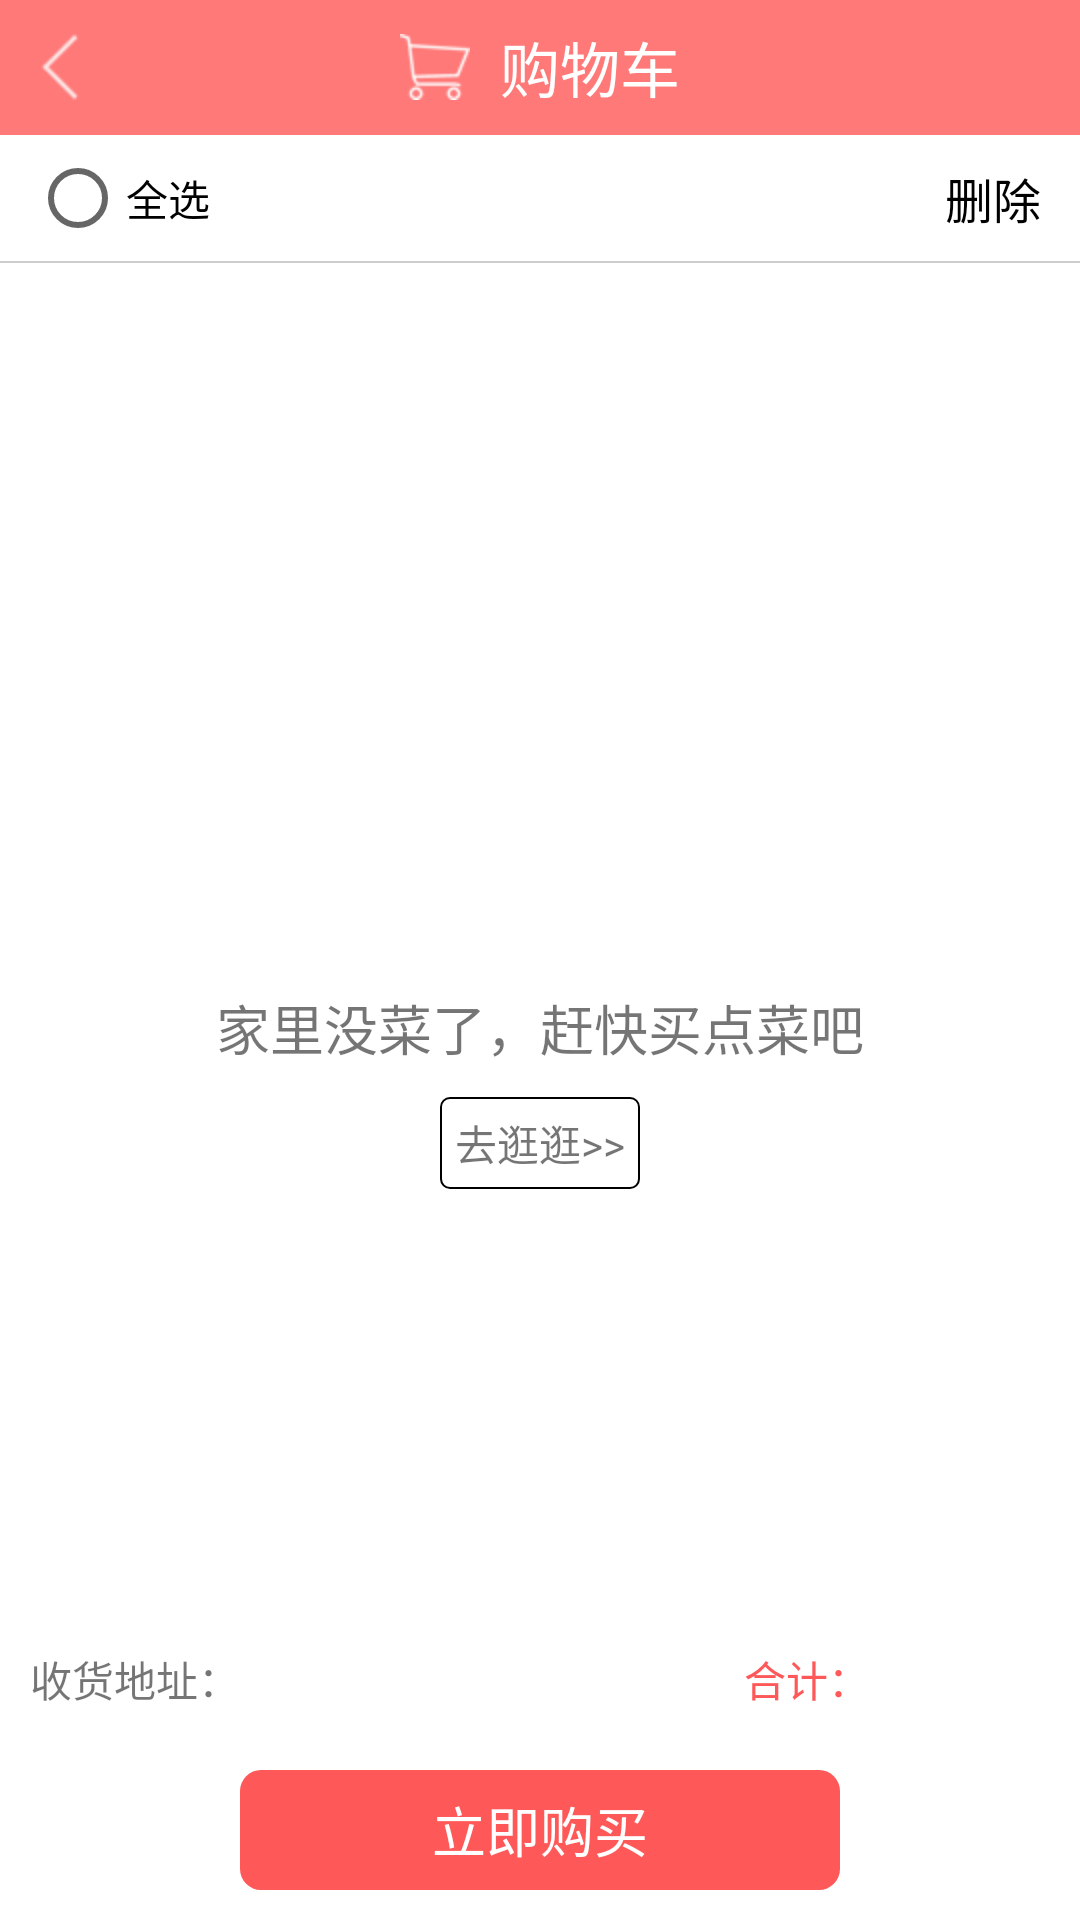

Screen size 1080w x 1920h. Icon name, then its box in pixels as [x1,y1,x2,y2]:
back: [42,35,77,99]
